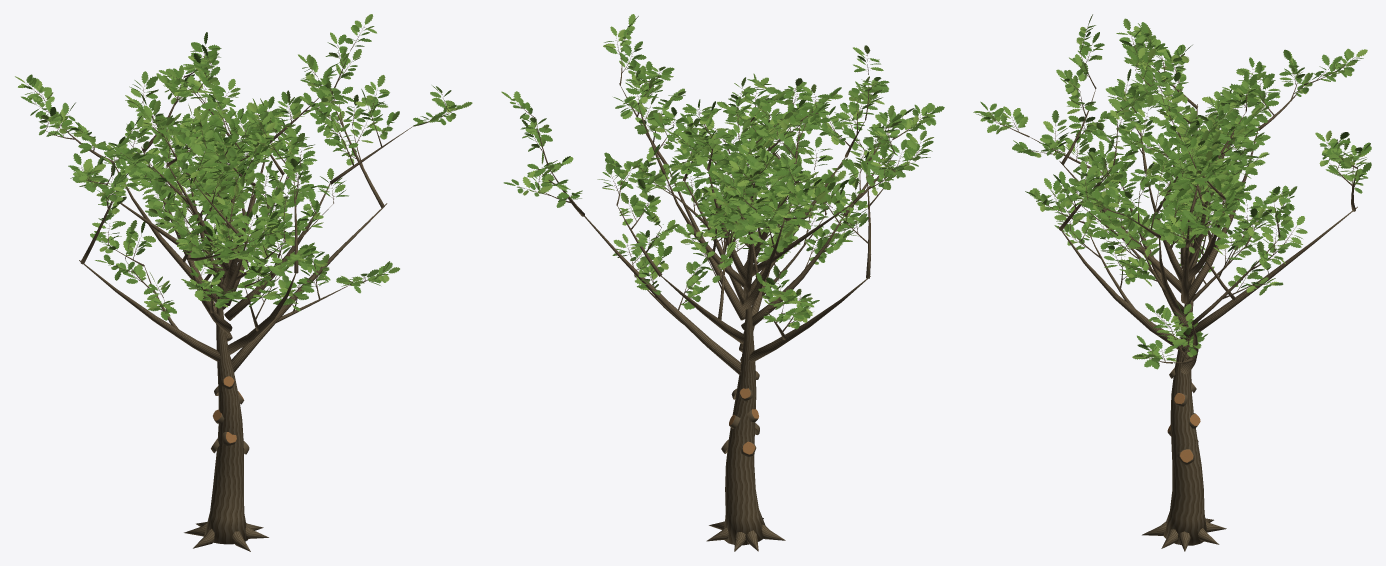
The model's file is Sessile_Oak_Mature_01_MediumPruned_Recent_LOD0.fbx.
The picture shows the model from 3 angles, left to right: view 1: azimuth 30°, elevation 25°; view 2: azimuth 150°, elevation 25°; view 3: azimuth 270°, elevation 25°; orthographic projection.
Parts seen in each view (by area): view 1: Sessile_Oak_Mature_01_MediumPruned_Recent_LOD0, Sessile_Oak_Mature_01_MediumPruned_Recent_LOD0_Scars; view 2: Sessile_Oak_Mature_01_MediumPruned_Recent_LOD0, Sessile_Oak_Mature_01_MediumPruned_Recent_LOD0_Scars; view 3: Sessile_Oak_Mature_01_MediumPruned_Recent_LOD0, Sessile_Oak_Mature_01_MediumPruned_Recent_LOD0_Scars.
Part boxes in pixels (x1,y1,x2,y2): Sessile_Oak_Mature_01_MediumPruned_Recent_LOD0: [15, 14, 472, 551]; Sessile_Oak_Mature_01_MediumPruned_Recent_LOD0_Scars: [211, 376, 249, 454]; Sessile_Oak_Mature_01_MediumPruned_Recent_LOD0: [501, 14, 944, 551]; Sessile_Oak_Mature_01_MediumPruned_Recent_LOD0_Scars: [721, 371, 759, 456]; Sessile_Oak_Mature_01_MediumPruned_Recent_LOD0: [973, 14, 1371, 551]; Sessile_Oak_Mature_01_MediumPruned_Recent_LOD0_Scars: [1167, 367, 1200, 465].
Bounding box in the file's own units: 1589 × 1999 × 1488.
Materials: 6 (2 with a texture image).
